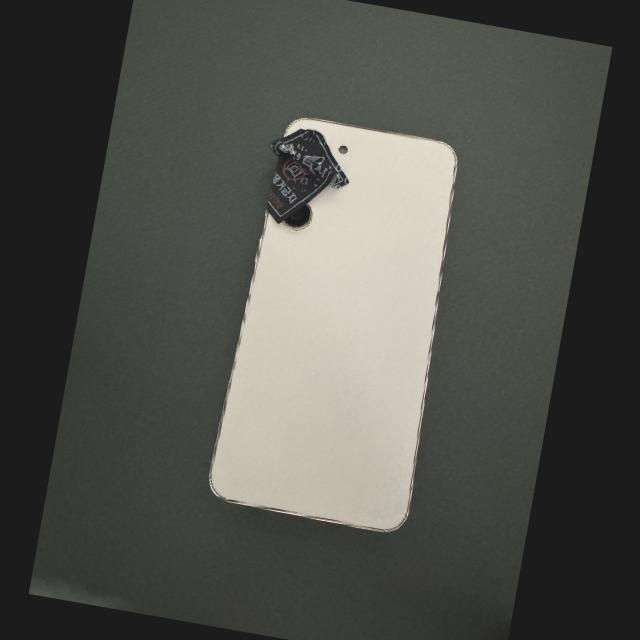lens: (282, 203, 312, 230), (314, 129, 326, 142)
phone: (208, 114, 457, 531)
sticker: (264, 128, 349, 224)
